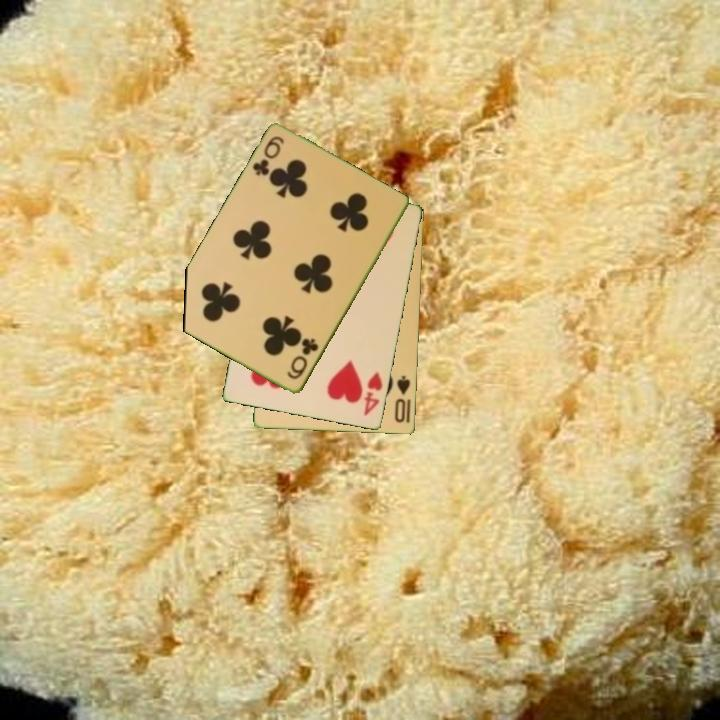10s: (391, 372, 413, 426)
4h: (361, 369, 386, 419)
6c: (284, 335, 322, 383), (249, 133, 287, 179)
